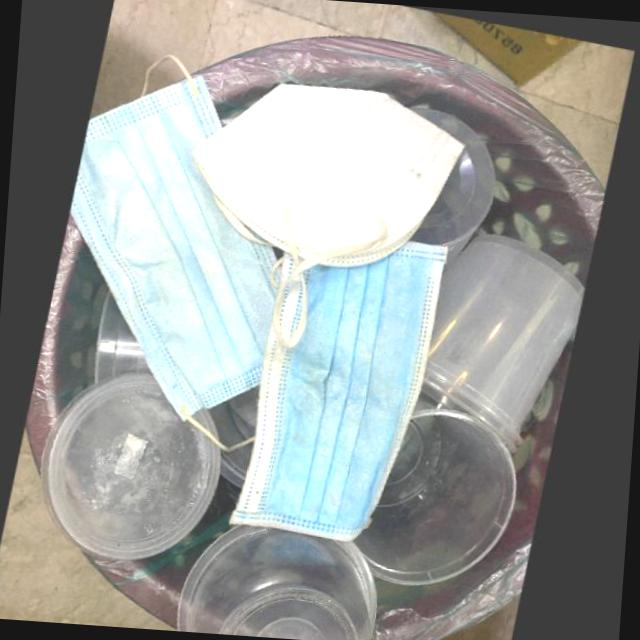hop_nhua: (422, 235, 583, 454), (39, 372, 219, 559), (352, 409, 515, 585), (176, 524, 376, 640), (406, 107, 493, 246)
khau_trang: (68, 73, 274, 420), (229, 240, 445, 541), (189, 83, 463, 270)
